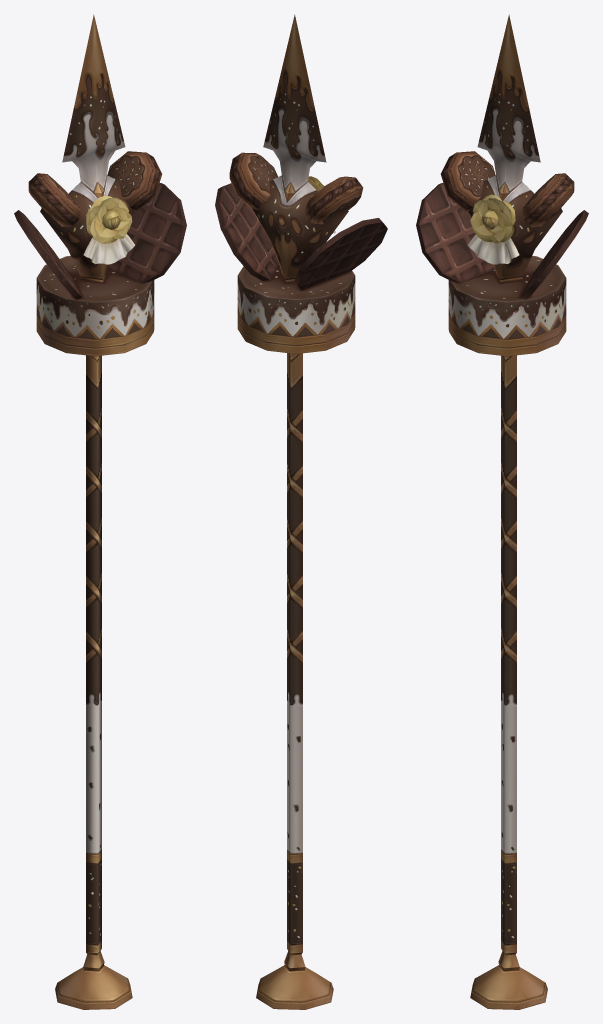
The model's file is Hero_Theo_Cos20Dessert_Weapon.fbx.
The picture shows the model from 3 angles, left to right: view 1: azimuth 30°, elevation 25°; view 2: azimuth 150°, elevation 25°; view 3: azimuth 330°, elevation 25°; orthographic projection.
Visible parts, largest first — view 1: Hero_Theo_Cos20Dessert_Weapon; view 2: Hero_Theo_Cos20Dessert_Weapon; view 3: Hero_Theo_Cos20Dessert_Weapon.
Part boxes in pixels (x1,y1,x2,y2): Hero_Theo_Cos20Dessert_Weapon: (14,14,186,1009); Hero_Theo_Cos20Dessert_Weapon: (215,14,387,1009); Hero_Theo_Cos20Dessert_Weapon: (416,14,588,1009).
Size of the model in its own units: 0.3845 by 2.35 by 0.2551.
1 material, 1 textured.
